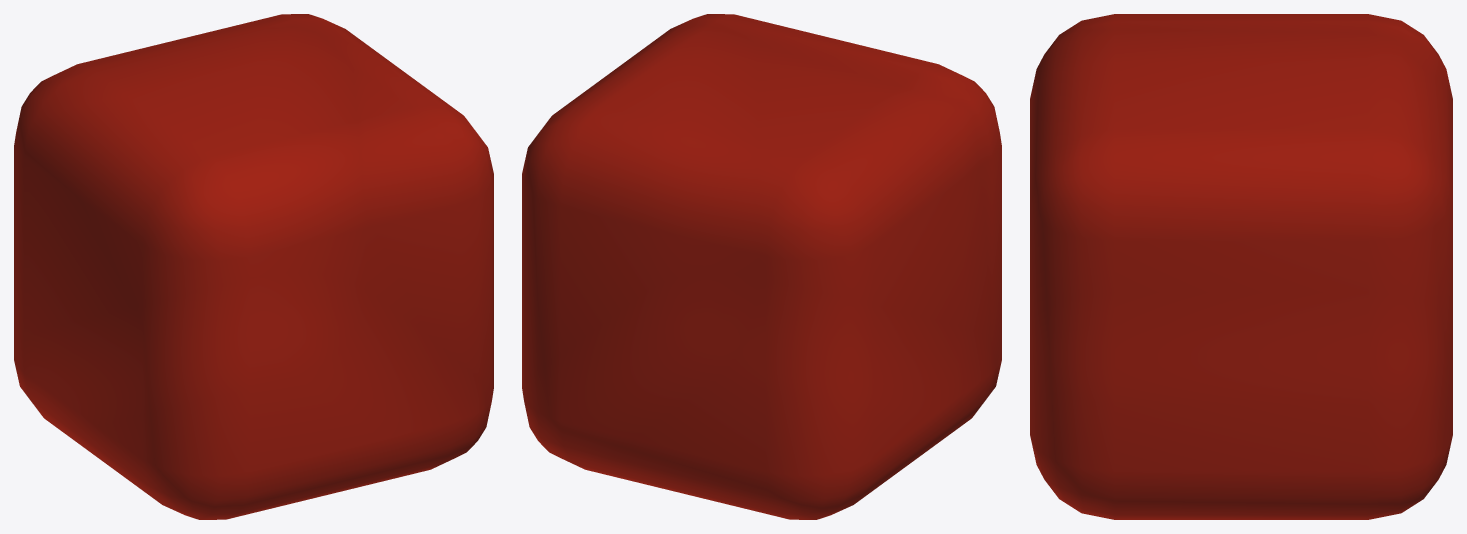
File: gummy_bear_block_r4.fbx
3 views of the same model, side by side, from view 1: azimuth 30°, elevation 25°; view 2: azimuth 150°, elevation 25°; view 3: azimuth 270°, elevation 25° (orthographic). The views are drawn at different scales.
Visible parts, largest first — view 1: gummy_bear_block; view 2: gummy_bear_block; view 3: gummy_bear_block.
Boxes of the visible parts, <box> form: gummy_bear_block: <box>14,14,493,519</box>; gummy_bear_block: <box>522,14,1001,519</box>; gummy_bear_block: <box>1030,14,1452,519</box>.
Size of the model in its own units: 20 by 20 by 20.
